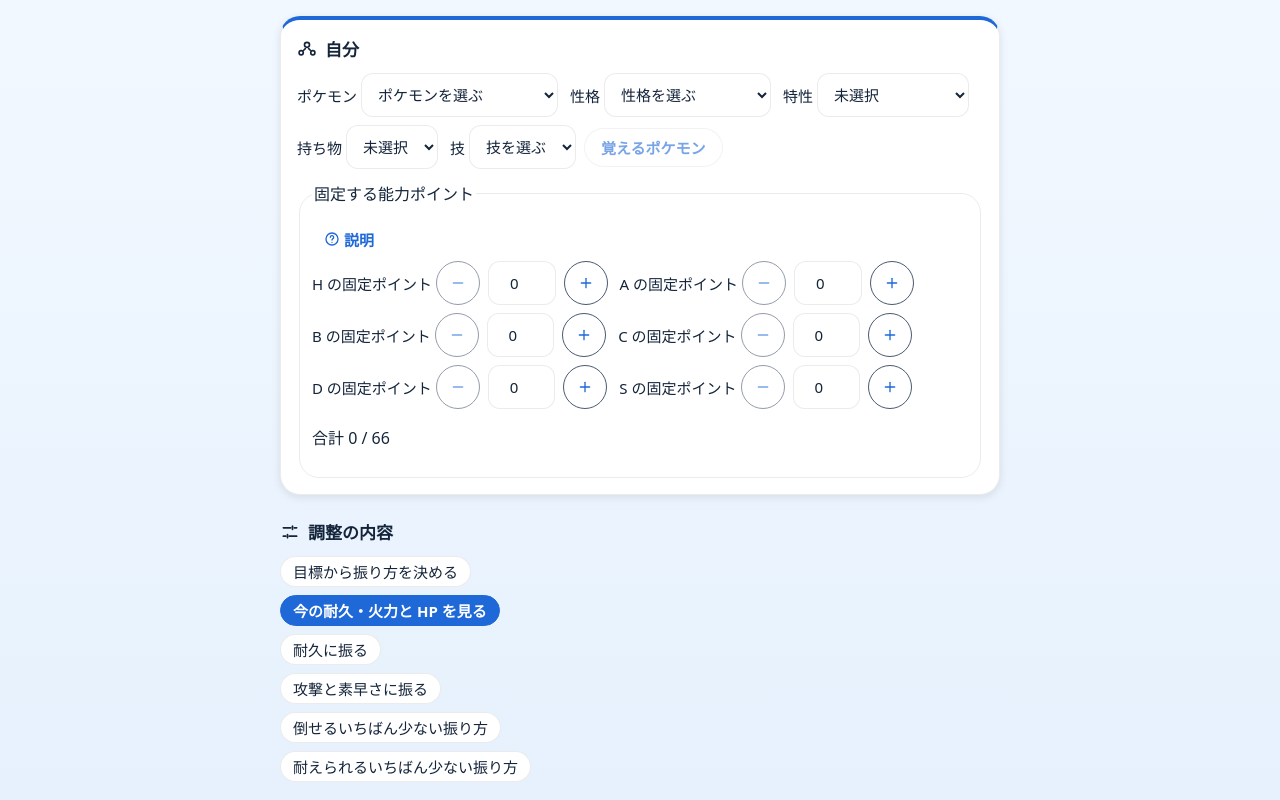
自分・相手のポケモンカード › 相手(相手が要るモード)も選ぶとカードが出る
The width and height of the screenshot is (1280, 800).
Click the radio button labelled "倒せるいちばん少ない振り方".
click(390, 728)  # box top-left (280, 712), bottom-right (501, 743)
(page scrolled)
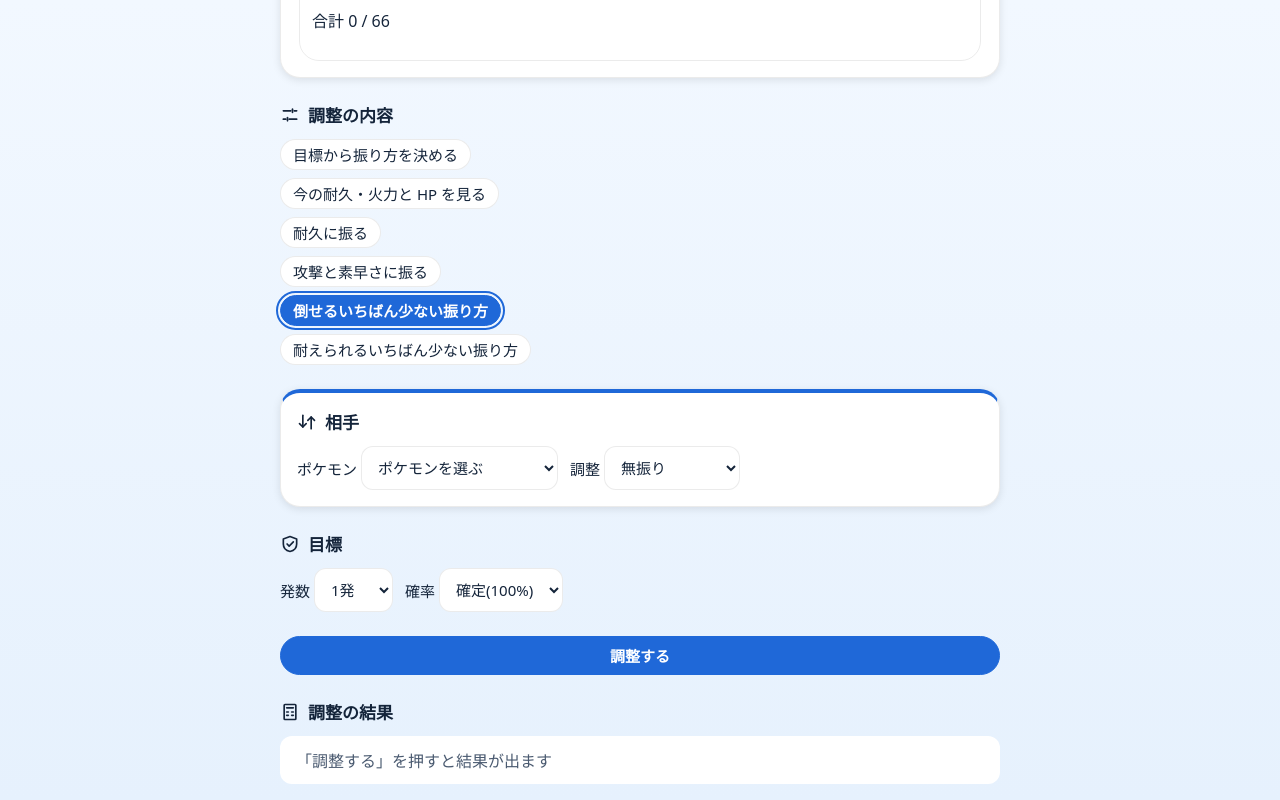
Select "テストカソウギョ" in the dropdown named "相手のポケモン" at (460, 468), box top-left (361, 446), bottom-right (558, 490)
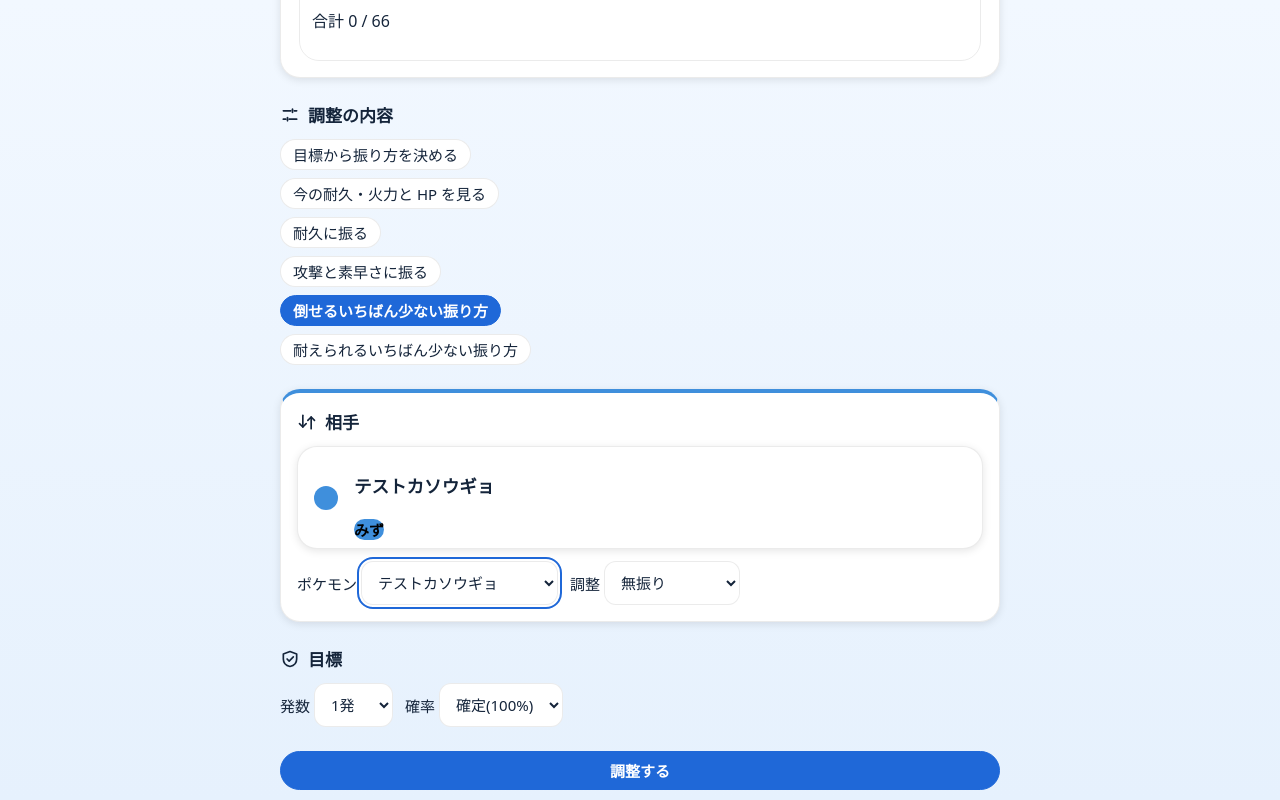
Expected: the heading "テストカソウギョ" is shown, top-left (354, 472), bottom-right (494, 498)
